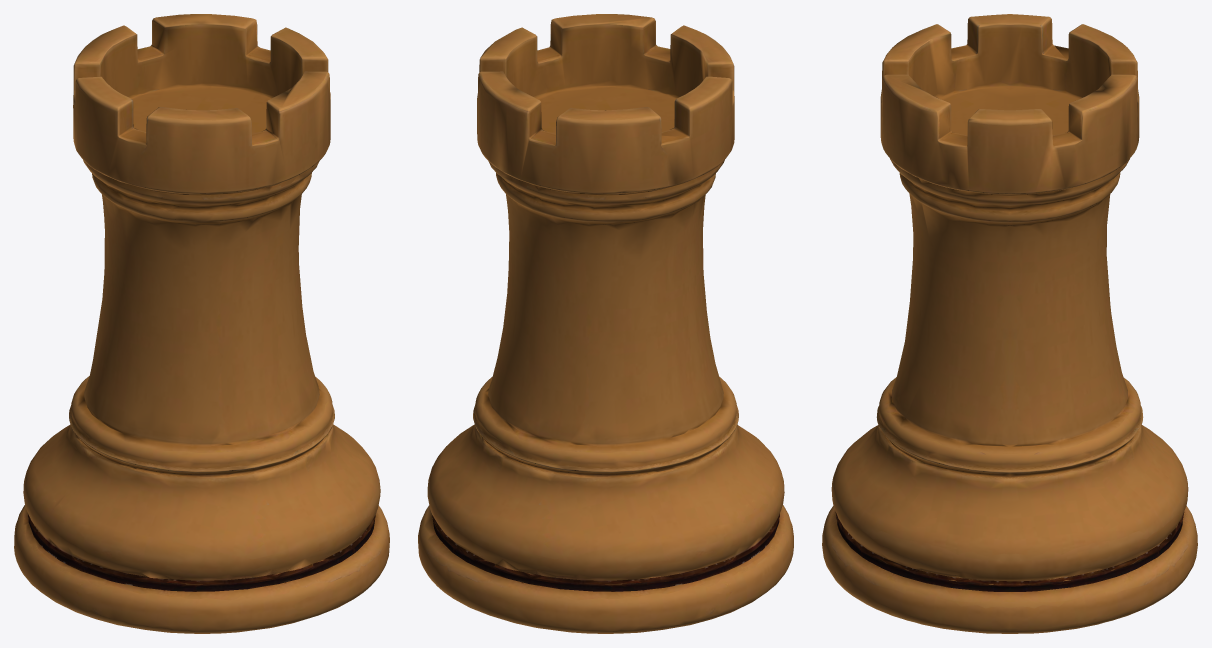
File: rook_light.glb
3 renders of one model, left to right at view 1: azimuth 30°, elevation 25°; view 2: azimuth 150°, elevation 25°; view 3: azimuth 270°, elevation 25°, orthographic.
Parts seen in each view (by area): view 1: geometry_0; view 2: geometry_0; view 3: geometry_0.
Boxes of the visible parts, box(x1,y1,x2,y2) form: geometry_0: box(14, 14, 389, 633); geometry_0: box(418, 14, 793, 633); geometry_0: box(822, 14, 1197, 633).
Size of the model in its own units: 0.5641 by 0.82 by 0.5642.
1 material, 1 textured.
